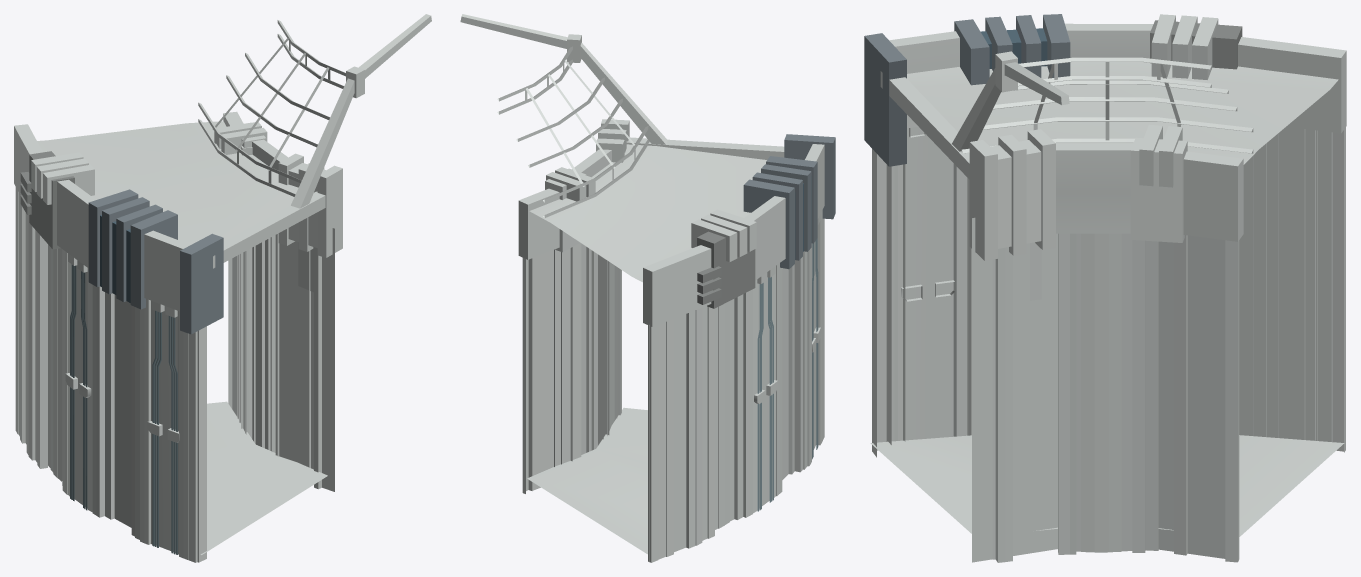
The picture shows the model from 3 angles, left to right: view 1: azimuth 30°, elevation 25°; view 2: azimuth 150°, elevation 25°; view 3: azimuth 270°, elevation 25°; orthographic projection. The views are drawn at different scales.
Visible parts, largest first — view 1: G:\FFXIV-MapTools\exports\g3f2\bg\ex2\01_gyr_g3\fld\g3f2\bgp (×11); view 2: G:\FFXIV-MapTools\exports\g3f2\bg\ex2\01_gyr_g3\fld\g3f2\bgp (×11); view 3: G:\FFXIV-MapTools\exports\g3f2\bg\ex2\01_gyr_g3\fld\g3f2\bgp (×10).
Boxes of the visible parts, x1=… form: G:\FFXIV-MapTools\exports\g3f2\bg\ex2\01_gyr_g3\fld\g3f2\bgp (×11): x1=14, y1=14, x2=431, y2=562; G:\FFXIV-MapTools\exports\g3f2\bg\ex2\01_gyr_g3\fld\g3f2\bgp (×11): x1=460, y1=14, x2=835, y2=562; G:\FFXIV-MapTools\exports\g3f2\bg\ex2\01_gyr_g3\fld\g3f2\bgp (×10): x1=864, y1=14, x2=1346, y2=562.
Size of the model in its own units: 48.3 by 55.84 by 44.48.
